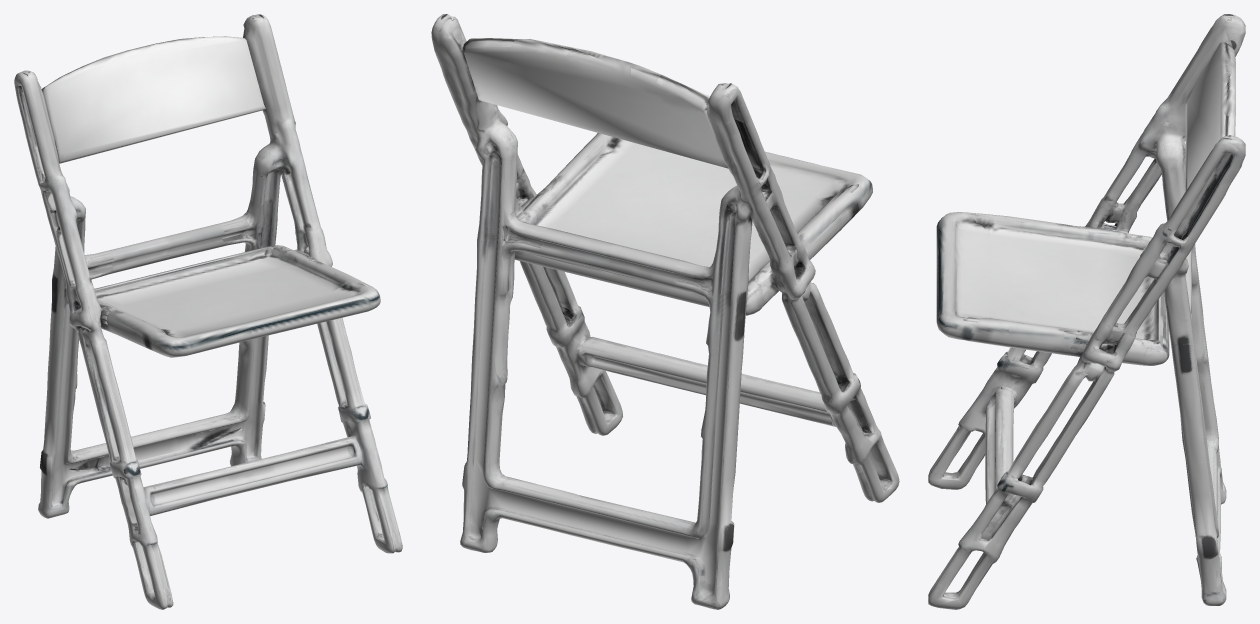
Rendered from Chair_Folding_Illusi_0320032037_texture.glb.
3 renders of one model, left to right at view 1: azimuth 30°, elevation 25°; view 2: azimuth 150°, elevation 25°; view 3: azimuth 270°, elevation 25°, orthographic. The views are drawn at different scales.
Visible parts, largest first — view 1: Mesh_0.004; view 2: Mesh_0.004; view 3: Mesh_0.004.
Part boxes in pixels (left/top/right/bottom): Mesh_0.004: left=14, top=14, right=402, bottom=609; Mesh_0.004: left=431, top=14, right=899, bottom=609; Mesh_0.004: left=928, top=14, right=1245, bottom=609.
Size of the model in its own units: 0.5464 by 0.9144 by 0.5539.
1 material, 1 textured.
